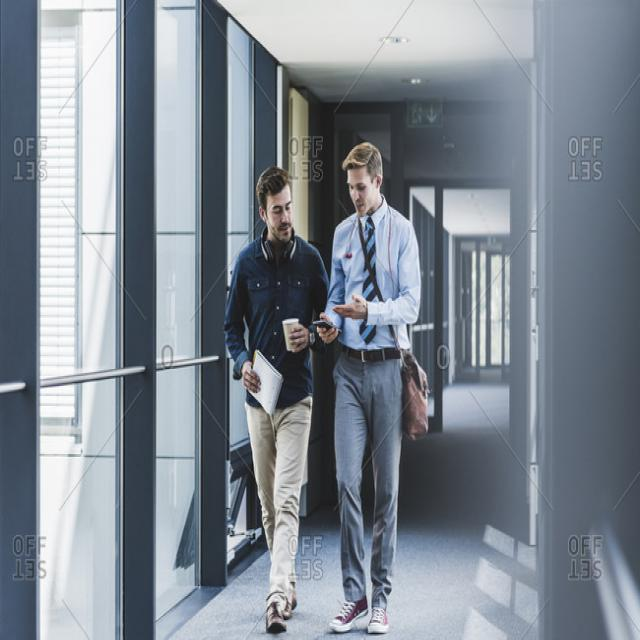No_Goggles: (265, 199, 292, 216), (345, 179, 368, 193)
No_Helmet: (337, 135, 389, 171), (250, 157, 295, 197)
